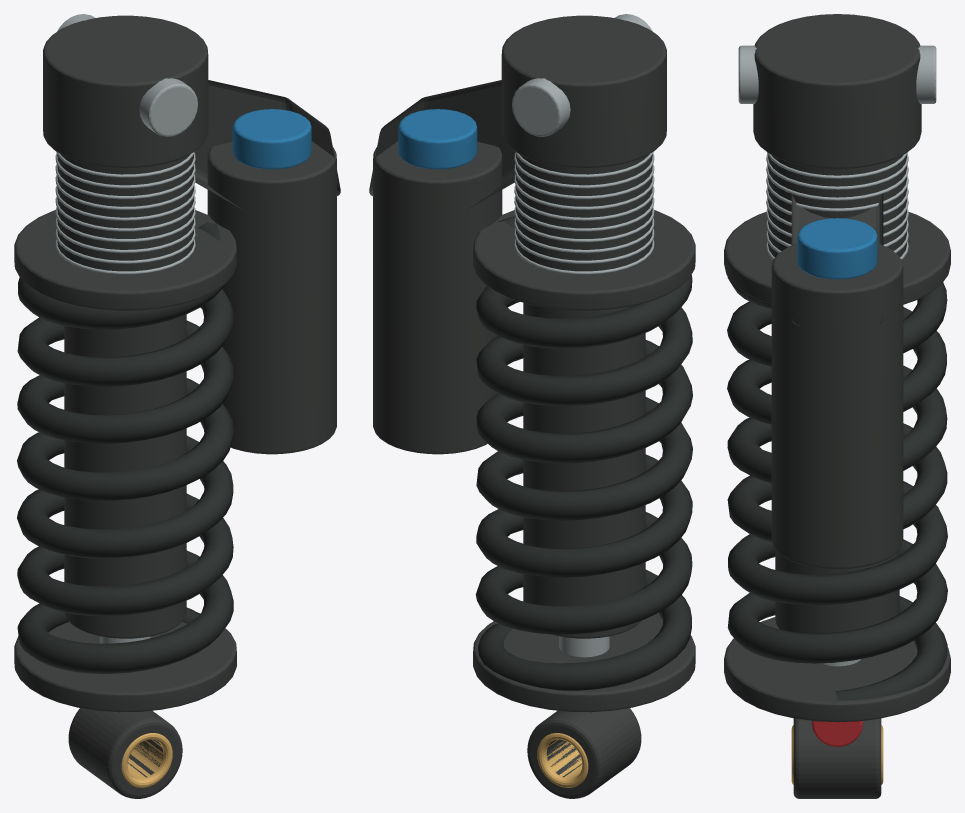
Rendered from marzocchi-bomber-cr--24237501.glb.
3 views of the same model, side by side, from view 1: azimuth 30°, elevation 25°; view 2: azimuth 150°, elevation 25°; view 3: azimuth 270°, elevation 25° (orthographic).
Parts seen in each view (by area): view 1: marzocchi-bomber-cr--24237501__link, marzocchi-bomber-cr--24237501__coil, marzocchi-bomber-cr--24237501__bolts, marzocchi-bomber-cr--24237501__adjuster, marzocchi-bomber-cr--24237501__stanchions; view 2: marzocchi-bomber-cr--24237501__link, marzocchi-bomber-cr--24237501__coil, marzocchi-bomber-cr--24237501__bolts, marzocchi-bomber-cr--24237501__adjuster, marzocchi-bomber-cr--24237501__stanchions; view 3: marzocchi-bomber-cr--24237501__link, marzocchi-bomber-cr--24237501__coil, marzocchi-bomber-cr--24237501__bolts, marzocchi-bomber-cr--24237501__adjuster, marzocchi-bomber-cr--24237501__rebound.
Part boxes in pixels (box(x1,y1,x2,y2)): marzocchi-bomber-cr--24237501__link: box(14, 15, 340, 798); marzocchi-bomber-cr--24237501__coil: box(17, 222, 234, 673); marzocchi-bomber-cr--24237501__bolts: box(55, 14, 197, 643); marzocchi-bomber-cr--24237501__adjuster: box(232, 109, 311, 169); marzocchi-bomber-cr--24237501__stanchions: box(121, 733, 172, 787); marzocchi-bomber-cr--24237501__link: box(369, 15, 695, 798); marzocchi-bomber-cr--24237501__coil: box(475, 216, 692, 690); marzocchi-bomber-cr--24237501__bolts: box(512, 14, 654, 657); marzocchi-bomber-cr--24237501__adjuster: box(398, 109, 477, 169); marzocchi-bomber-cr--24237501__stanchions: box(537, 733, 588, 787); marzocchi-bomber-cr--24237501__link: box(724, 14, 950, 798); marzocchi-bomber-cr--24237501__coil: box(727, 277, 947, 700); marzocchi-bomber-cr--24237501__bolts: box(738, 45, 936, 666); marzocchi-bomber-cr--24237501__adjuster: box(797, 218, 877, 279); marzocchi-bomber-cr--24237501__rebound: box(812, 721, 862, 746).
Bounding box in the file's own units: 0.096 × 0.225 × 0.062.
